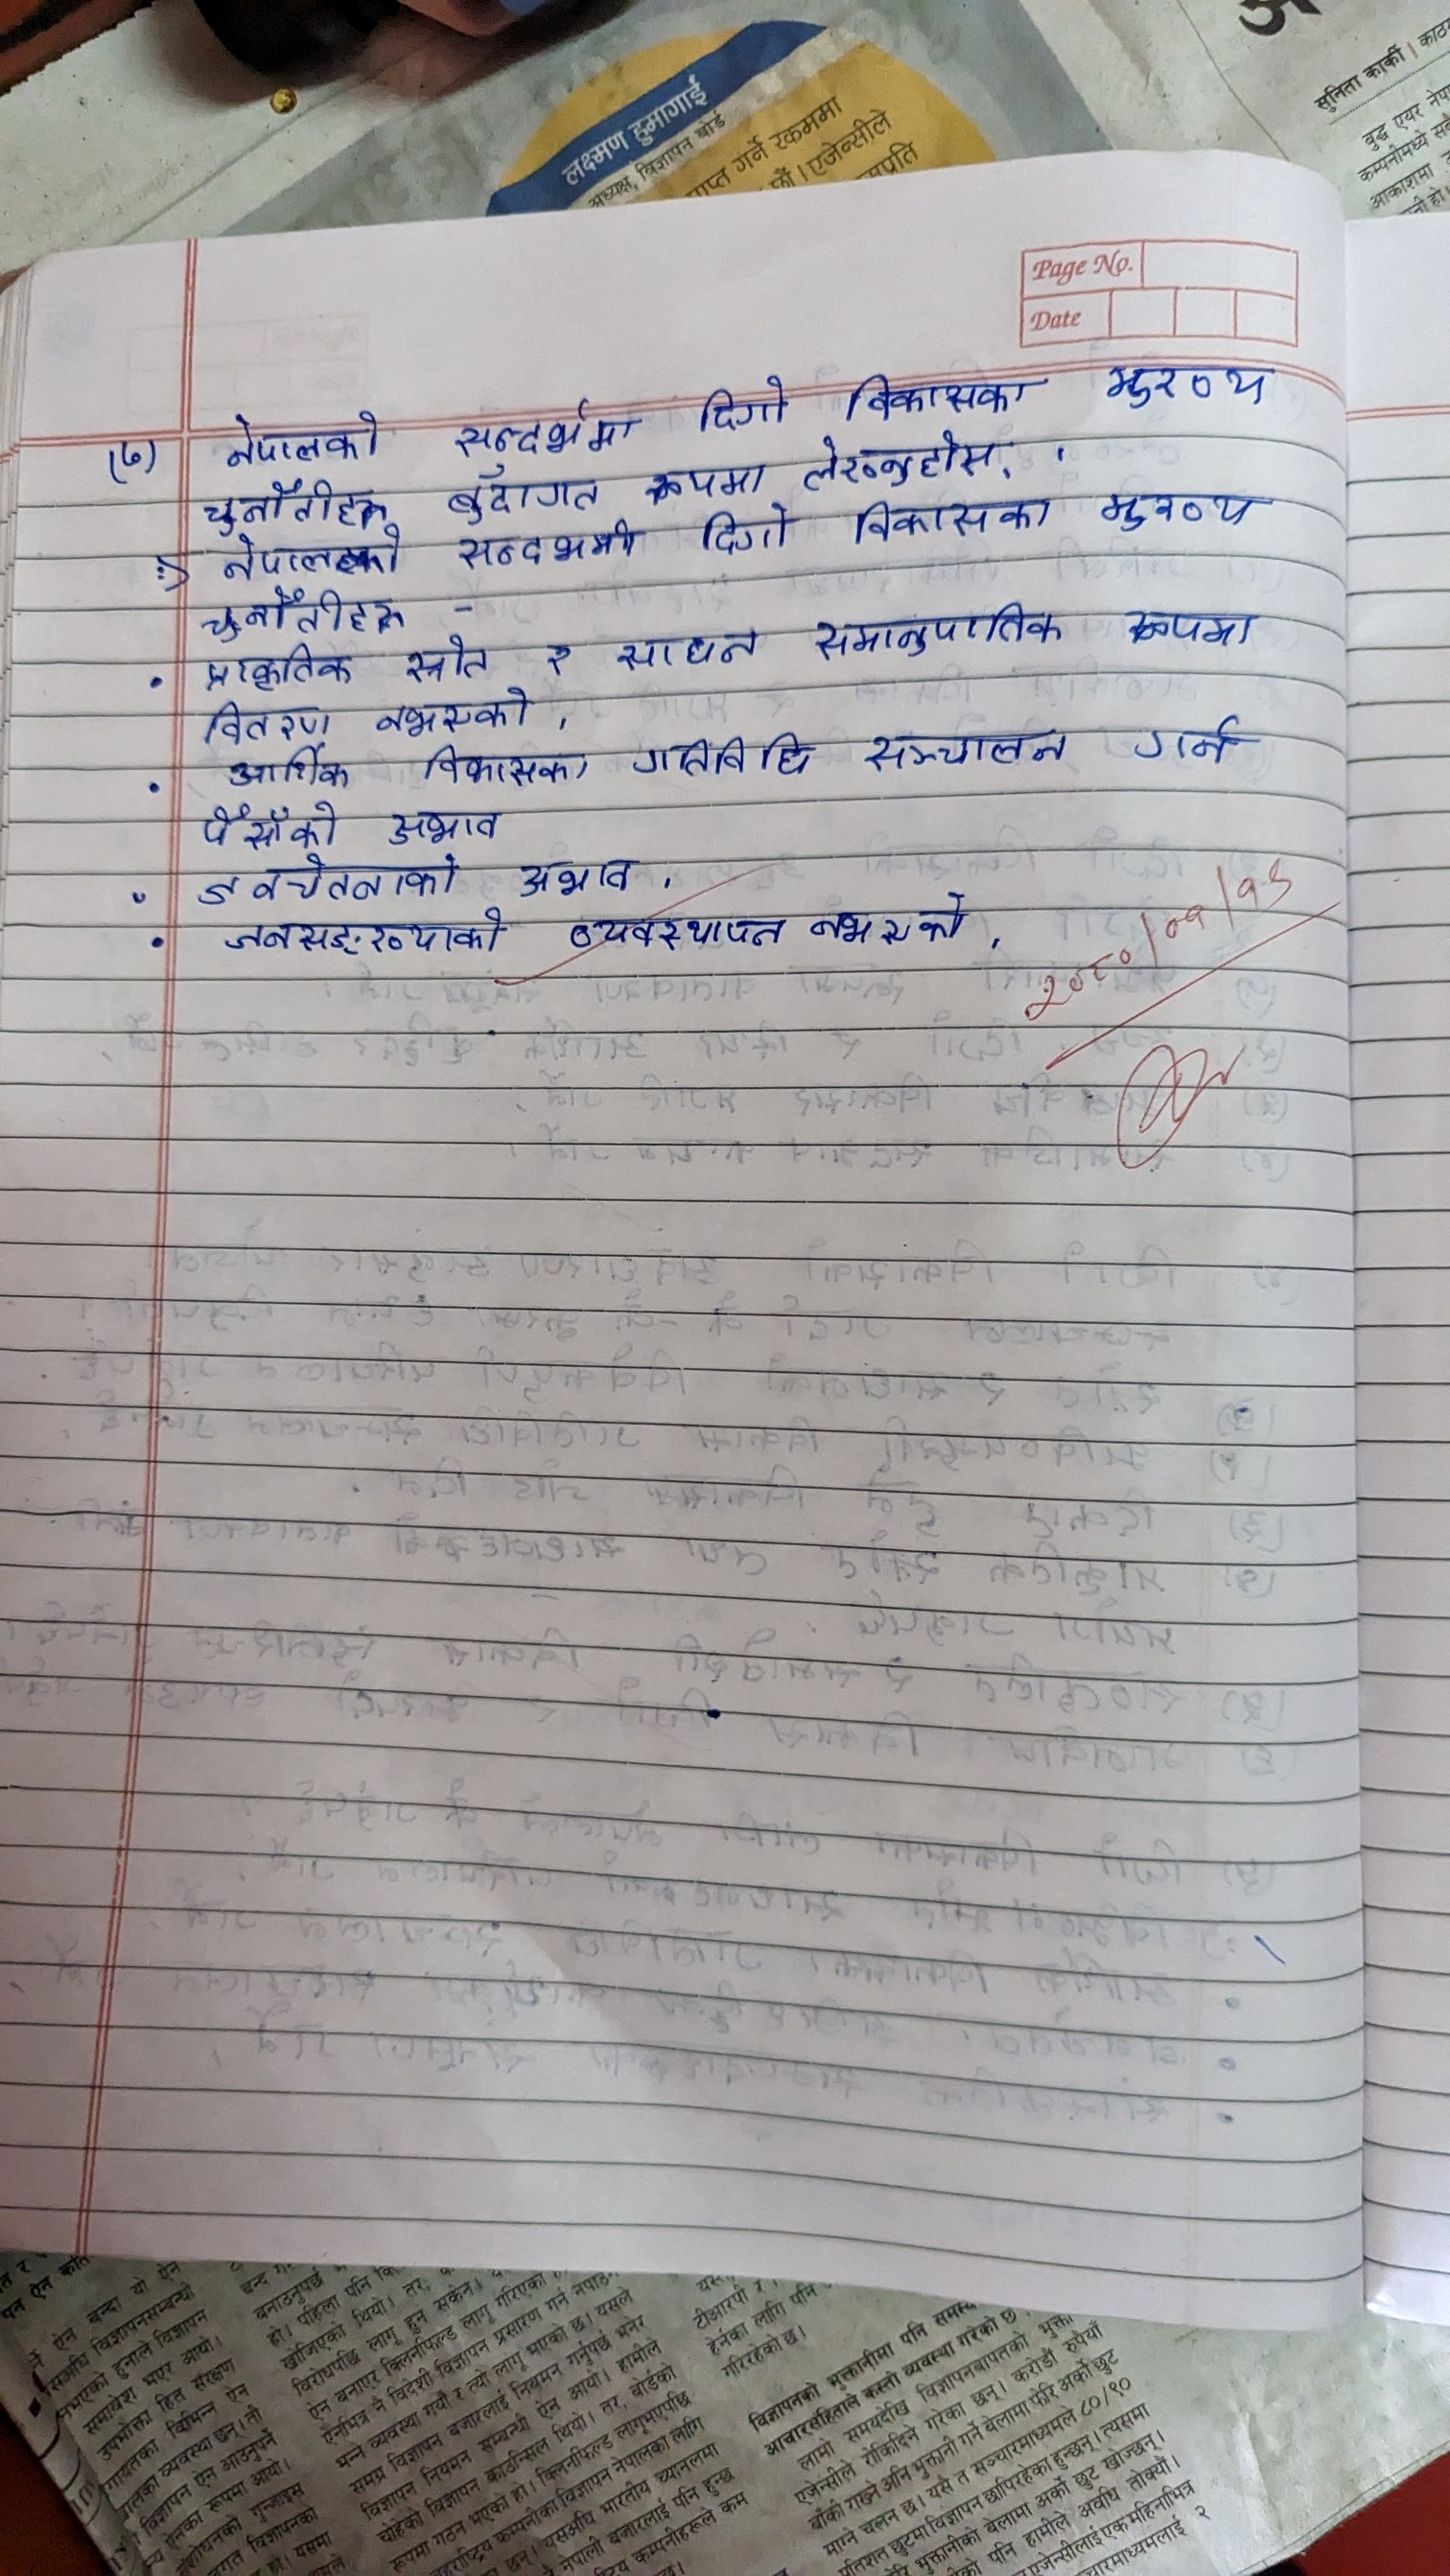text: (218, 911, 515, 966), (809, 607, 1080, 658), (813, 879, 986, 959), (205, 855, 459, 908), (857, 720, 1073, 782), (1101, 350, 1282, 418), (830, 356, 1029, 414), (561, 904, 777, 957), (202, 586, 402, 642), (444, 520, 646, 575), (439, 400, 639, 455), (211, 409, 395, 465), (1091, 483, 1262, 543), (614, 727, 827, 775), (195, 476, 388, 527), (802, 441, 1011, 487), (604, 616, 772, 672), (850, 495, 1057, 536), (413, 743, 600, 787), (225, 534, 405, 579), (436, 465, 588, 517), (370, 690, 542, 734), (1135, 708, 1257, 770), (685, 370, 791, 437), (1115, 598, 1253, 649), (195, 646, 354, 690), (191, 697, 336, 743), (377, 809, 517, 855), (223, 748, 352, 796), (510, 860, 659, 901), (200, 803, 333, 846), (689, 506, 798, 554), (636, 464, 768, 497), (407, 635, 492, 681), (110, 425, 150, 483), (531, 628, 574, 678)
